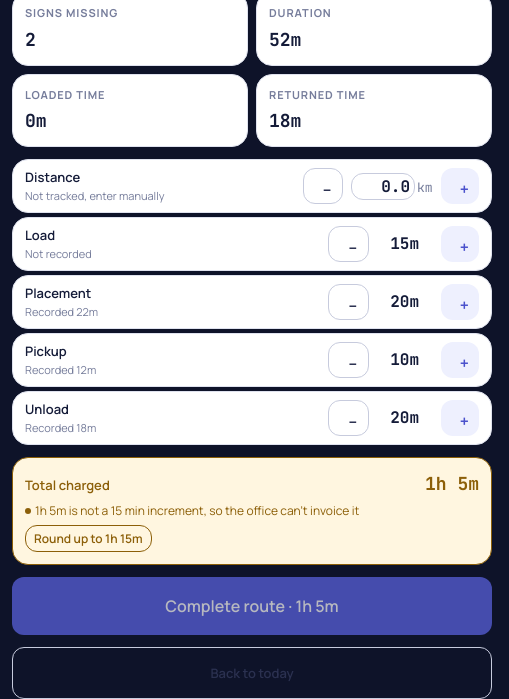
Scenario: Operator Finalise page › blocks completion while the distance is abc
(page scrolled)
Click the button "Round up to 1h 15m" at point(88, 539), box left=25, top=526, right=152, bottom=552
(page scrolled)
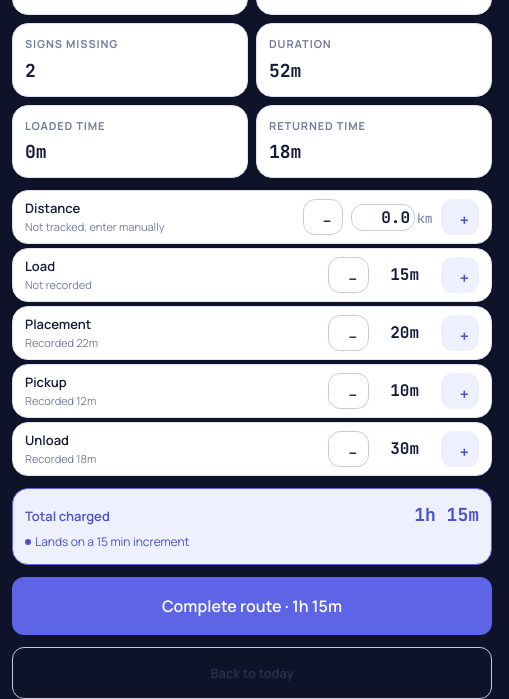
Replace the text in the field named "Distance (km)" with "abc" at point(383, 217), box left=351, top=204, right=415, bottom=231
(page scrolled)
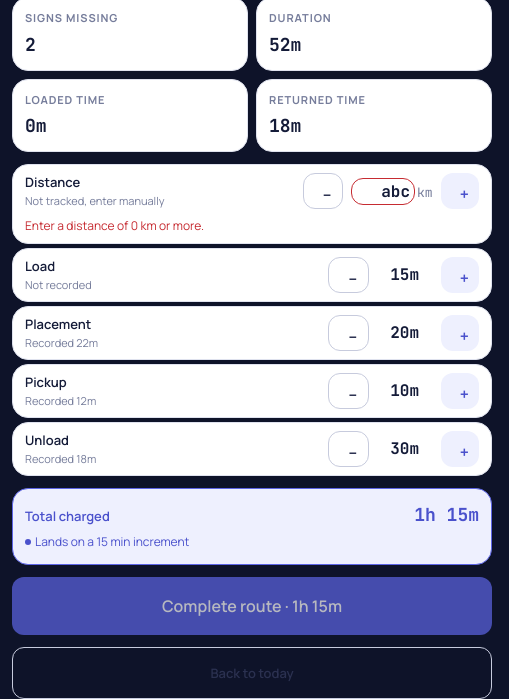
Expected: the message reads "Enter a distance of 0 km or more.", left=25, top=217, right=204, bottom=234
Expected: the button "Complete route · 1h 15m" is disabled, left=12, top=578, right=492, bottom=636
